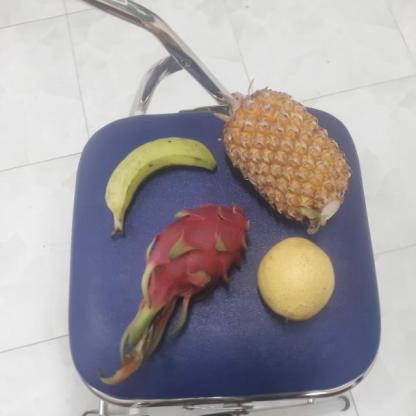banana: (106, 134, 220, 230)
pear: (256, 236, 337, 320)
pineapple: (224, 90, 351, 228)
pitaya: (140, 205, 260, 309)
